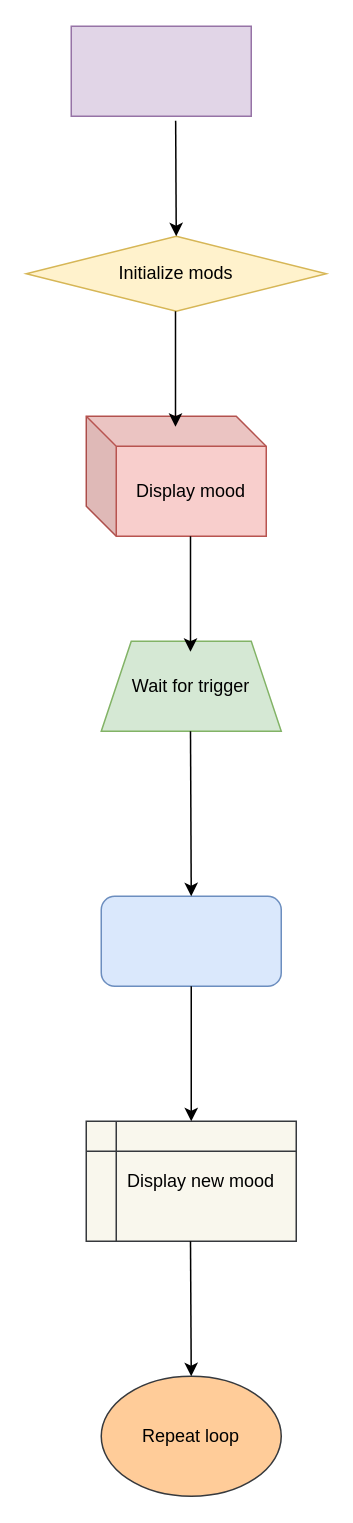
Some shapes in this 353 by 1523 pixel diagram are drawn without their labels. Each missing label, with the centre of its shape:
"Increment index =(m+1)mod moods.length" goes at point (190, 940).
"Start program" goes at point (160, 70).
